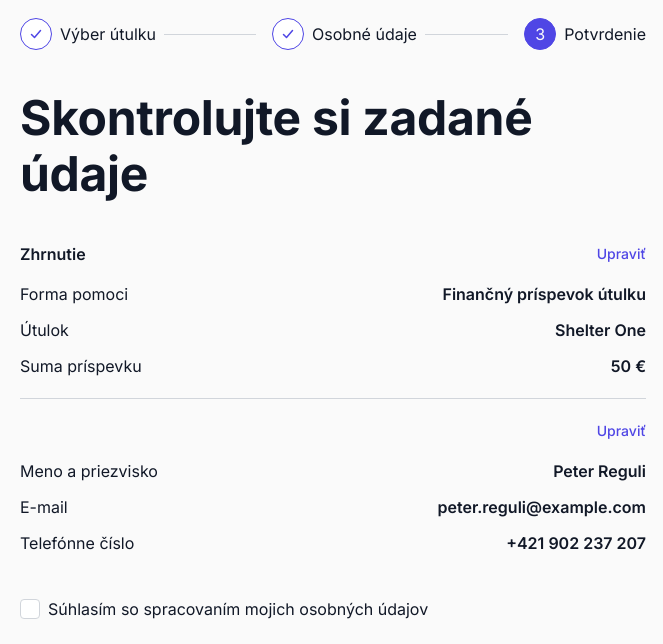
Test: Step3 › network error shows the network message with a retry button
The width and height of the screenshot is (663, 644).
Expected: the text "Shelter One" is shown, [555,318,646,342]
Click the checkbox labelled "Súhlasím so spracovaním mojich osobných údajov" at x=224, y=609, box [20,599,428,619]
(page scrolled)
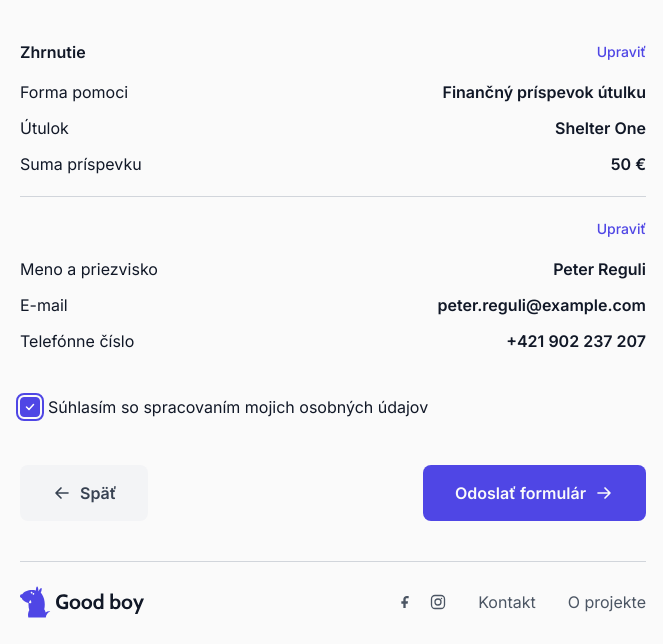
Click the button "Odoslať formulár" at x=534, y=493, box [423,465,646,521]
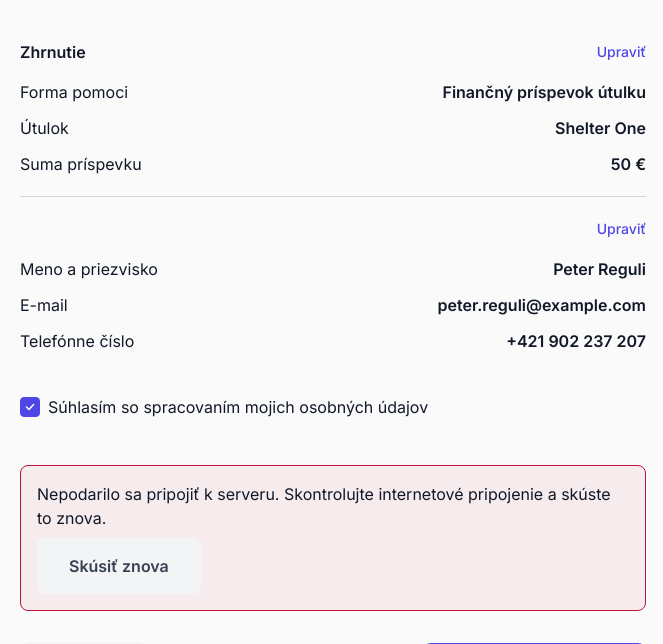
Expected: the message shows "Nepodarilo sa pripojiť k serveru. Skontrolujte internetové pripojenie a skúste to znova.", [37,484,611,528]
Expected: the button "Skúsiť znova" is shown, [37,538,201,594]
